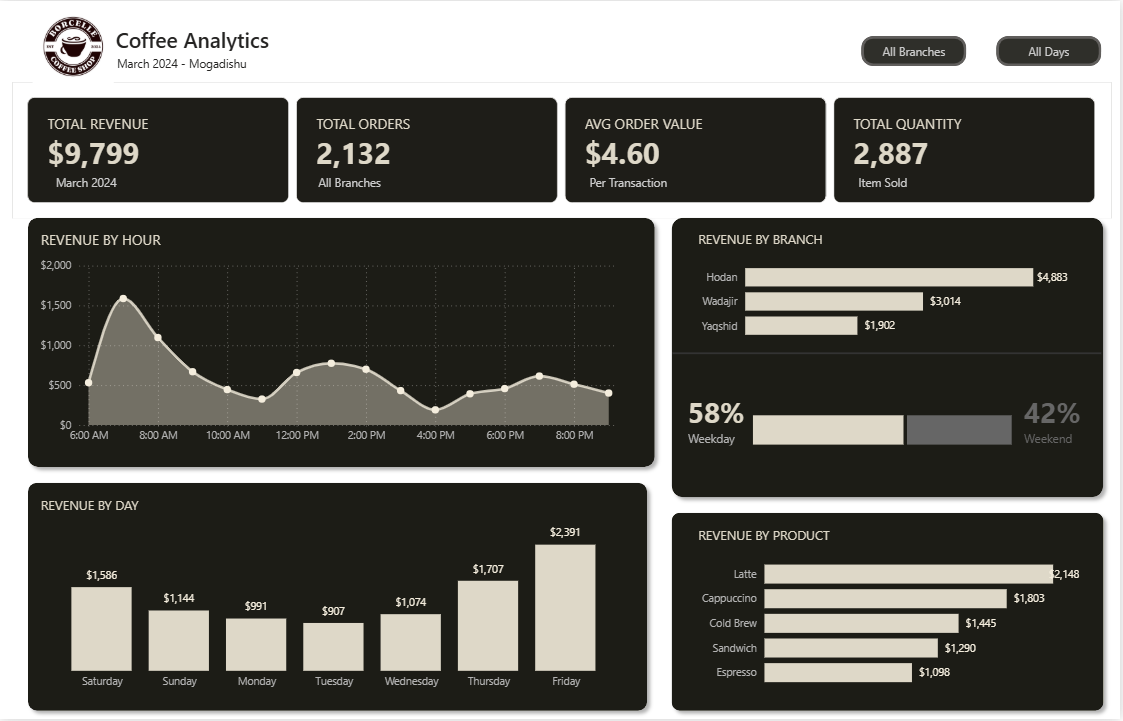

The page's visual inventory and layout, read from the dashboard file:
{"tool":"powerbi","page":{"name":"Bussiness Overview","canvas":[1280,820],"ordinal":0},"visuals":[{"type":"textbox","box":[127.1,22.9,300,45.7],"z":0},{"type":"cardVisual","fields":{"Data":["Measure table.Total Revenue","Measure table.Total Orders","Measure table.Average Order Value (AOV)","Measure table.Total Quantity"]},"box":[14.3,92.9,1255.7,155.7],"z":0,"group":"g1"},{"type":"textbox","box":[128.6,57.1,195.7,34.3],"z":1000},{"type":"textbox","box":[58.6,193.1,93.1,37.9],"z":1000,"group":"g1"},{"type":"group","id":"g1","title":"KPI's","box":[14.3,92.9,1255.7,155.7],"z":2000},{"type":"textbox","box":[358.5,193.1,137.4,37.9],"z":2000,"group":"g1"},{"type":"textbox","box":[668.7,193.1,137.4,37.9],"z":3000,"group":"g1"},{"type":"shape","box":[22.8,238.8,734.3,302.9],"z":3000},{"type":"textbox","box":[976,193.1,137.4,37.9],"z":4000,"group":"g1"},{"type":"lineChart","title":"REVENUE BY HOUR","fields":{"Category":["coffee_shop_data.Time"],"Y":["Measure table.Total Revenue"]},"box":[41.3,261.6,681.4,252.9],"z":4000},{"type":"shape","box":[758.8,238.8,511.2,337.5],"z":5000},{"type":"barChart","title":"REVENUE BY BRANCH","fields":{"Category":["coffee_shop_data.Branch"],"Y":["Measure table.Total Revenue"]},"box":[792.5,261.5,432.5,137.5],"z":6000},{"type":"hundredPercentStackedBarChart","title":"WEEKDAY VS WEEKEND","fields":{"Y":["Measure table.Weekday %","Measure table.Weekend %"]},"box":[855.7,427.1,305.7,118.6],"z":7000},{"type":"shape","box":[768.8,385.2,490,33.8],"z":8000},{"type":"shape","box":[22.9,541.4,725.7,278.6],"z":9000},{"type":"shape","box":[758.6,575.7,511.4,244.3],"z":10000},{"type":"barChart","title":"REVENUE BY PRODUCT","fields":{"Category":["coffee_shop_data.Product"],"Y":["Measure table.Total Revenue"]},"box":[792.9,600,445.7,195.7],"z":11000},{"type":"cardVisual","fields":{"Data":["Measure table.Weekday %"]},"box":[757.1,427.1,147.1,101.4],"z":12000},{"type":"cardVisual","fields":{"Data":["Measure table.Weekend %"]},"box":[1141.4,427.1,138.6,101.4],"z":13000},{"type":"columnChart","title":"REVENUE BY DAY","fields":{"Category":["coffee_shop_data.Day Name"],"Y":["Measure table.Total Revenue"]},"box":[41.4,565.7,681.4,230],"z":14000},{"type":"image","box":[22.9,5.7,121.4,92.9],"z":15000},{"type":"actionButton","box":[984.3,40,120,34.3],"z":15001},{"type":"actionButton","box":[1138.6,40,120,34.3],"z":15002}]}

Visuals, with their boxes in screenshot pixels (x1, y1, x2, y2), scaled from the page's 1280x820 canvas onto the 1123x721 screenshot:
textbox: BBox(112, 20, 375, 60)
cardVisual - Measure table.Total Revenue x Measure table.Total Orders: BBox(13, 82, 1114, 219)
textbox: BBox(113, 50, 285, 80)
textbox: BBox(51, 170, 133, 203)
"KPI's" group: BBox(13, 82, 1114, 219)
textbox: BBox(315, 170, 435, 203)
textbox: BBox(587, 170, 707, 203)
shape: BBox(20, 210, 664, 476)
textbox: BBox(856, 170, 977, 203)
"REVENUE BY HOUR" lineChart: BBox(36, 230, 634, 452)
shape: BBox(666, 210, 1114, 507)
"REVENUE BY BRANCH" barChart: BBox(695, 230, 1075, 351)
"WEEKDAY VS WEEKEND" hundredPercentStackedBarChart: BBox(751, 376, 1019, 480)
shape: BBox(675, 339, 1104, 368)
shape: BBox(20, 476, 657, 720)
shape: BBox(666, 506, 1114, 720)
"REVENUE BY PRODUCT" barChart: BBox(696, 528, 1087, 700)
cardVisual - Measure table.Weekday %: BBox(664, 376, 793, 465)
cardVisual - Measure table.Weekend %: BBox(1001, 376, 1122, 465)
"REVENUE BY DAY" columnChart: BBox(36, 497, 634, 700)
image: BBox(20, 5, 127, 87)
actionButton: BBox(864, 35, 969, 65)
actionButton: BBox(999, 35, 1104, 65)
